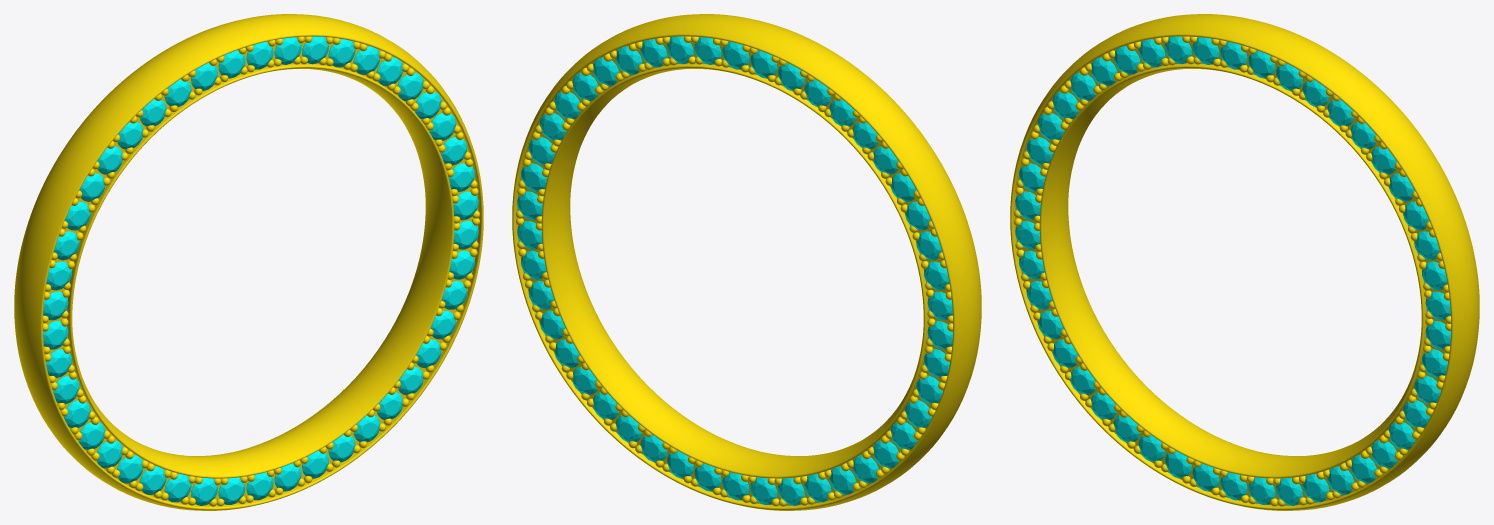
The model's file is SIDE-BEZEL-STONES.glb.
3 renders of one model, left to right at view 1: azimuth 30°, elevation 25°; view 2: azimuth 150°, elevation 25°; view 3: azimuth 330°, elevation 25°, orthographic.
Visible parts, largest first — view 1: metal_merged, SH-Pave-43dm; view 2: metal_merged, SH-Pave-43dm; view 3: metal_merged, SH-Pave-43dm.
Boxes of the visible parts, x1,y1,x2,y2 form: metal_merged: (14,14,483,510); SH-Pave-43dm: (43,36,478,505); metal_merged: (512,14,981,510); SH-Pave-43dm: (517,36,952,505); metal_merged: (1010,14,1479,510); SH-Pave-43dm: (1015,36,1450,505).
Size of the model in its own units: 15.82 by 15.82 by 1.63.
